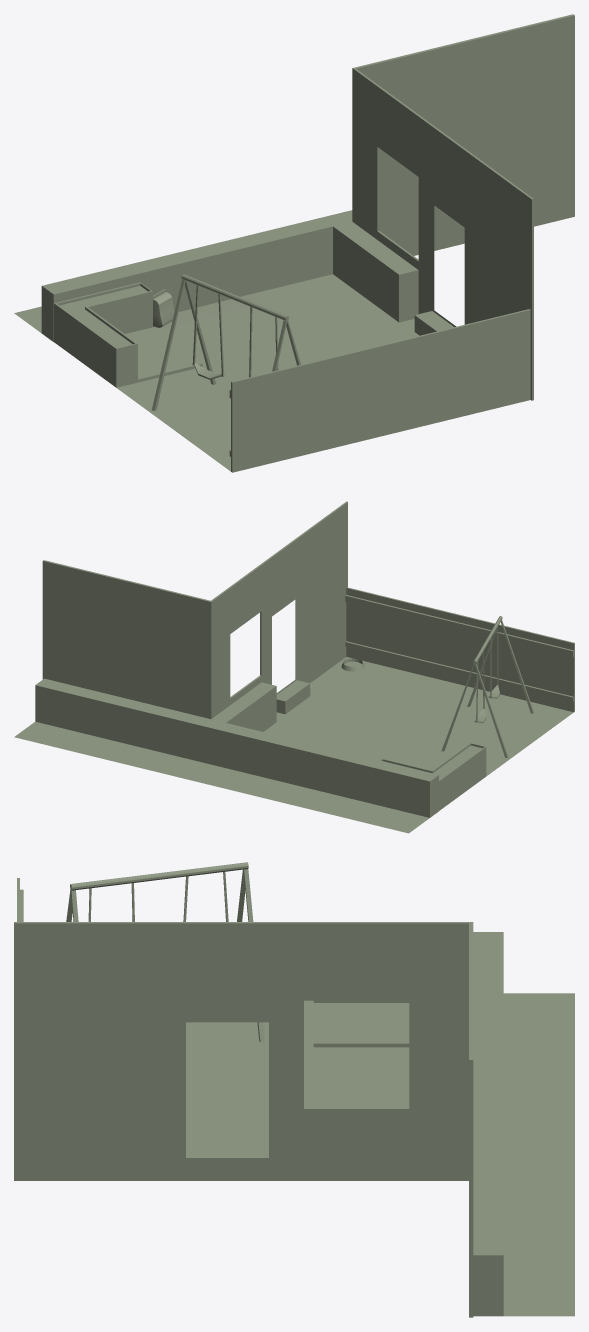
The model's file is house with objects.fbx.
3 views of the same model, one above another, from view 1: azimuth 30°, elevation 25°; view 2: azimuth 150°, elevation 25°; view 3: azimuth 270°, elevation 25° (orthographic). The views are drawn at different scales.
Parts seen in each view (by area): view 1: pPlane1, pasted__pCylinder1, pasted__pCube1; view 2: pPlane1, pasted__pCylinder1; view 3: pPlane1, pasted__pCylinder1.
Boxes of the visible parts, box(x1,y1,x2,y2) form: pPlane1: box(14, 14, 574, 472); pasted__pCylinder1: box(152, 274, 300, 410); pasted__pCube1: box(153, 289, 174, 327); pPlane1: box(14, 501, 574, 833); pasted__pCylinder1: box(441, 616, 533, 757); pPlane1: box(14, 878, 574, 1317); pasted__pCylinder1: box(66, 862, 264, 1042).
Bounding box in the file's own units: 646 × 244 × 472.
